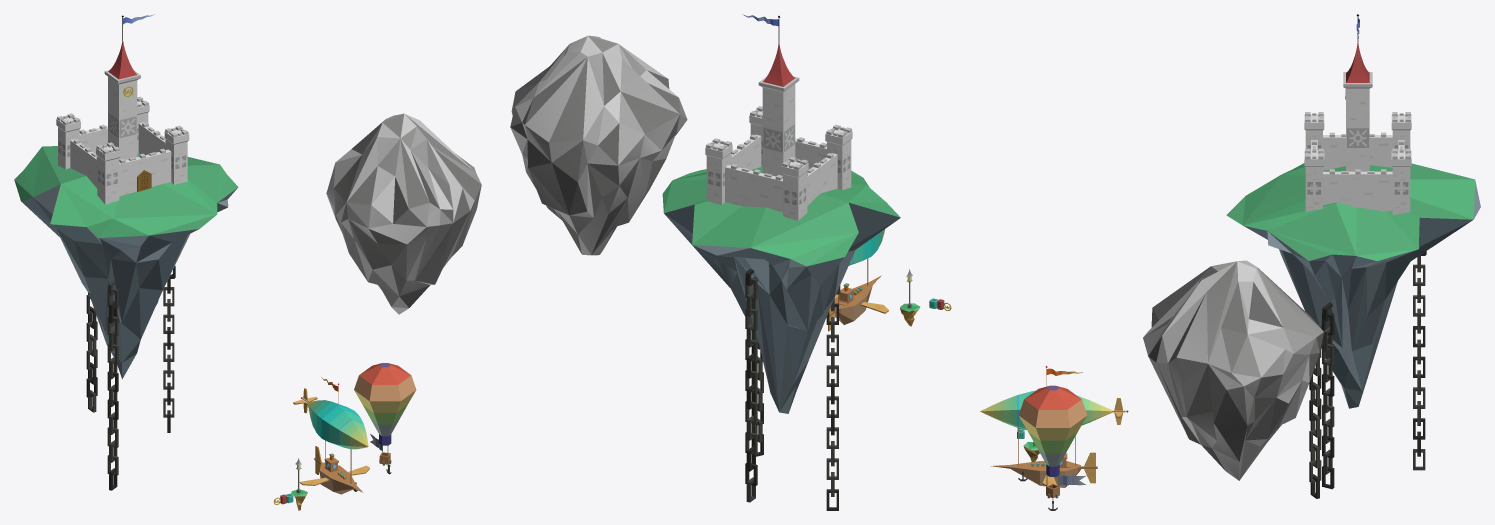
File: Models_2.FBX
3 renders of one model, left to right at view 1: azimuth 30°, elevation 25°; view 2: azimuth 150°, elevation 25°; view 3: azimuth 270°, elevation 25°, orthographic. The views are drawn at different scales.
Parts seen in each view (by area): view 1: Castle1A_001, Rock1A_001, Airship1A_001, Balloon1A_001; view 2: Castle1A_001, Rock1A_001, Airship1A_001; view 3: Castle1A_001, Rock1A_001, Balloon1A_001, Airship1A_001.
Part boxes in pixels (<box>): Castle1A_001: <box>14,14,238,490</box>; Rock1A_001: <box>326,113,481,314</box>; Airship1A_001: <box>293,377,369,494</box>; Balloon1A_001: <box>354,363,416,474</box>; Castle1A_001: <box>662,14,900,510</box>; Rock1A_001: <box>510,35,687,255</box>; Airship1A_001: <box>828,229,888,331</box>; Castle1A_001: <box>1226,14,1480,498</box>; Rock1A_001: <box>1143,260,1323,480</box>; Balloon1A_001: <box>1018,385,1087,510</box>; Airship1A_001: <box>980,366,1128,487</box>.
Size of the model in its own units: 4963 by 5067 by 5560.
